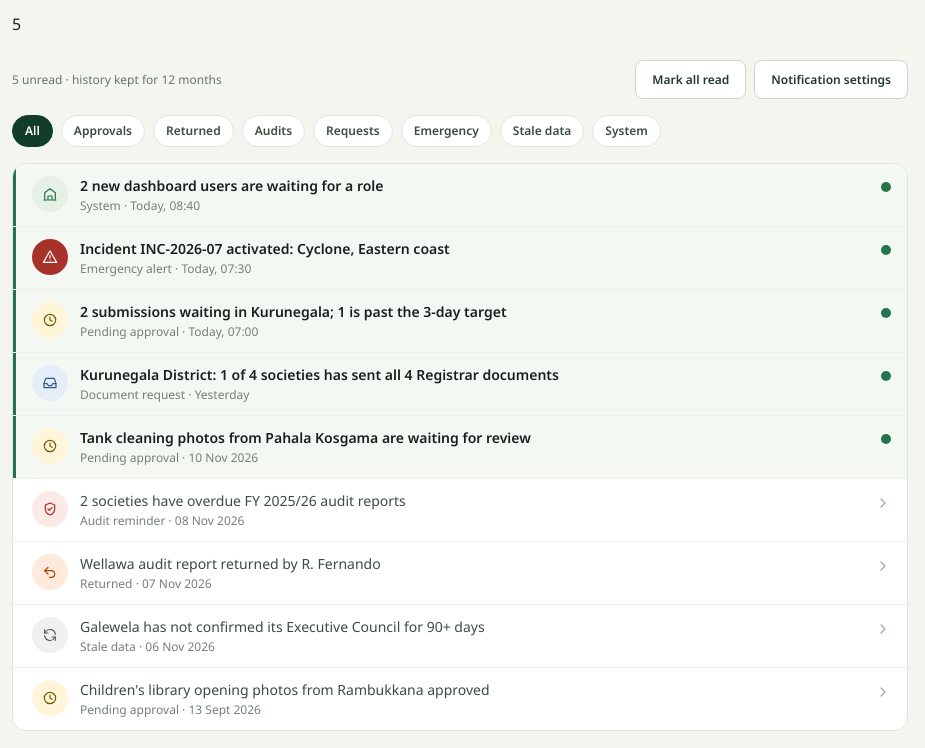
Scenario: NotificationCentre › marks everything read
The image size is (925, 748).
Click the button "Mark all read". click: point(691, 80)
box: [635,60,746,99]
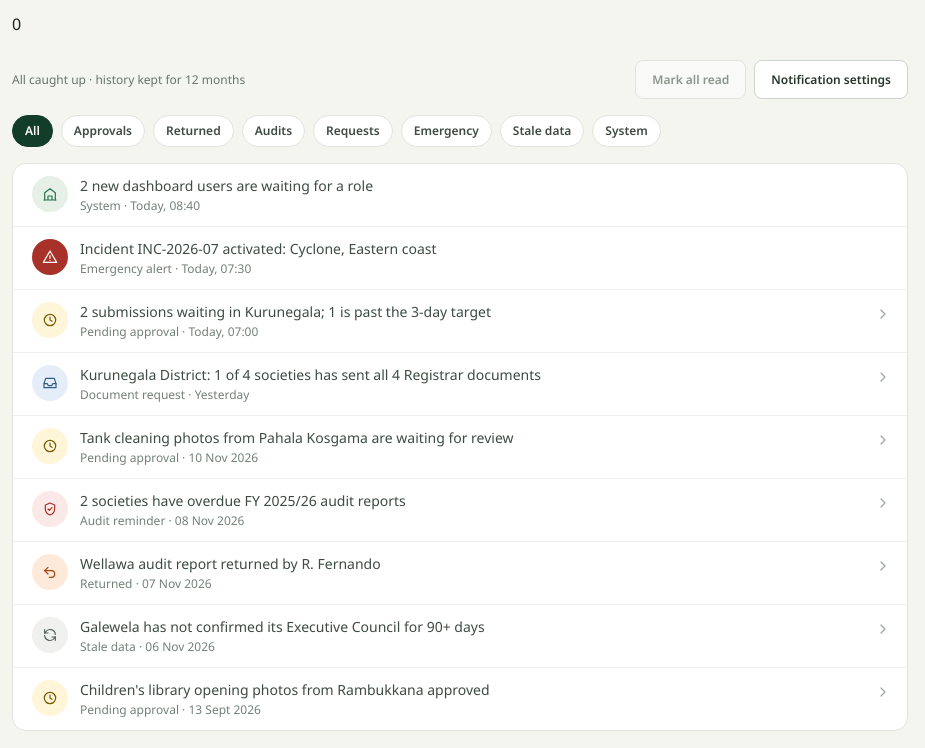
Now the message shows "All caught up", box [12,71,86,88]
Now no elements with test id "unread-dot" are shown
Now the button "Mark all read" is disabled, box [635,60,746,99]
